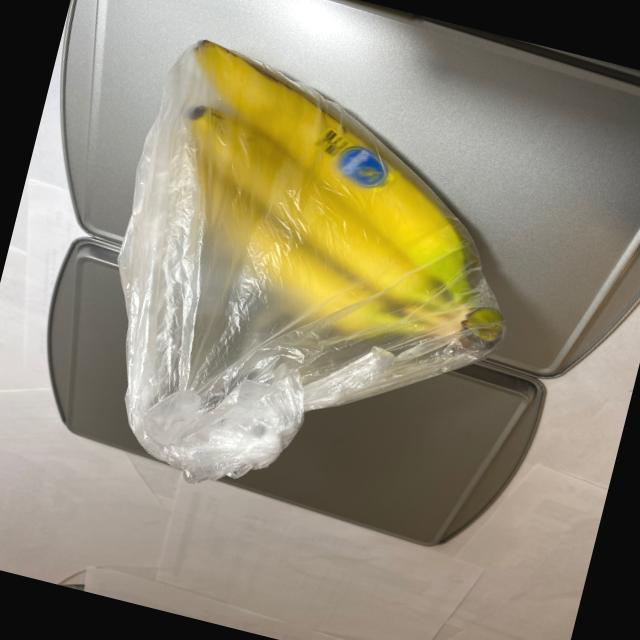banana: (90, 17, 586, 427)
